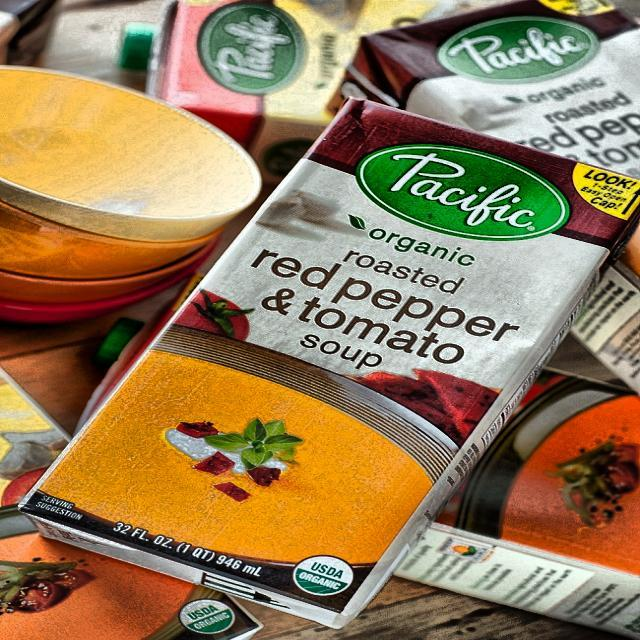cardboard: (15, 96, 638, 628)
